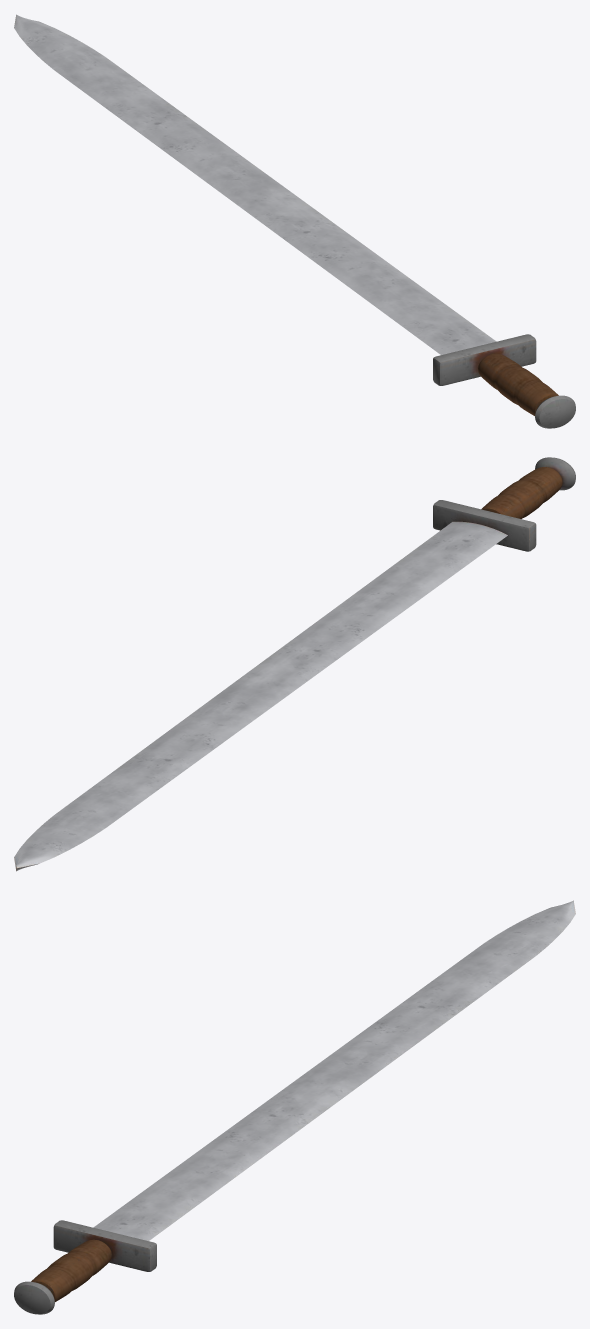
File: lombard_spatha.glb
3 views of the same model, one above another, from view 1: azimuth 30°, elevation 25°; view 2: azimuth 150°, elevation 25°; view 3: azimuth 330°, elevation 25° (orthographic).
Parts seen in each view (by area): view 1: lombard_spatha; view 2: lombard_spatha; view 3: lombard_spatha.
Part boxes in pixels (x1,y1,x2,y2): lombard_spatha: (14,14,575,428); lombard_spatha: (14,457,575,871); lombard_spatha: (14,900,575,1314).
Bounding box in the file's own units: 0.095 × 0.0292 × 0.9119.
1 material, 1 textured.
